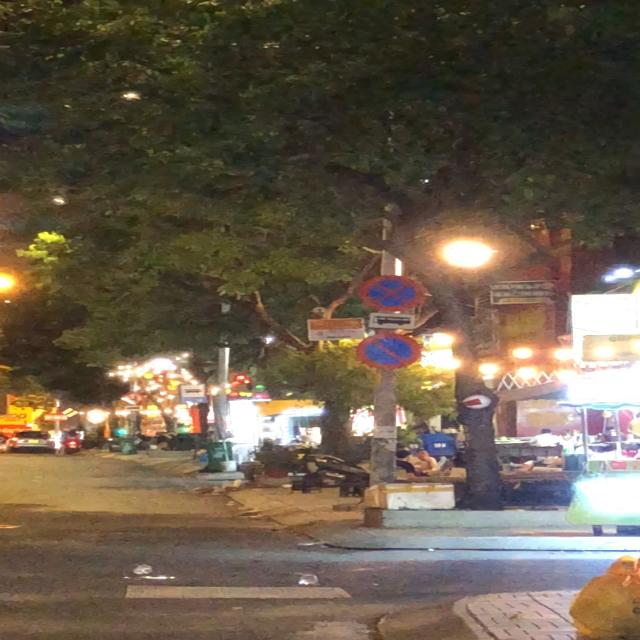Bien bao cam do xe: (356, 331, 426, 371)
Bien bao cam dung xe va do xe: (355, 272, 430, 315)
